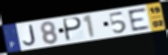1: (83, 14, 96, 40)
5: (108, 10, 128, 34)
8: (40, 20, 60, 45)
E: (127, 7, 152, 33)
J: (22, 24, 38, 47)
P: (63, 17, 84, 43)
